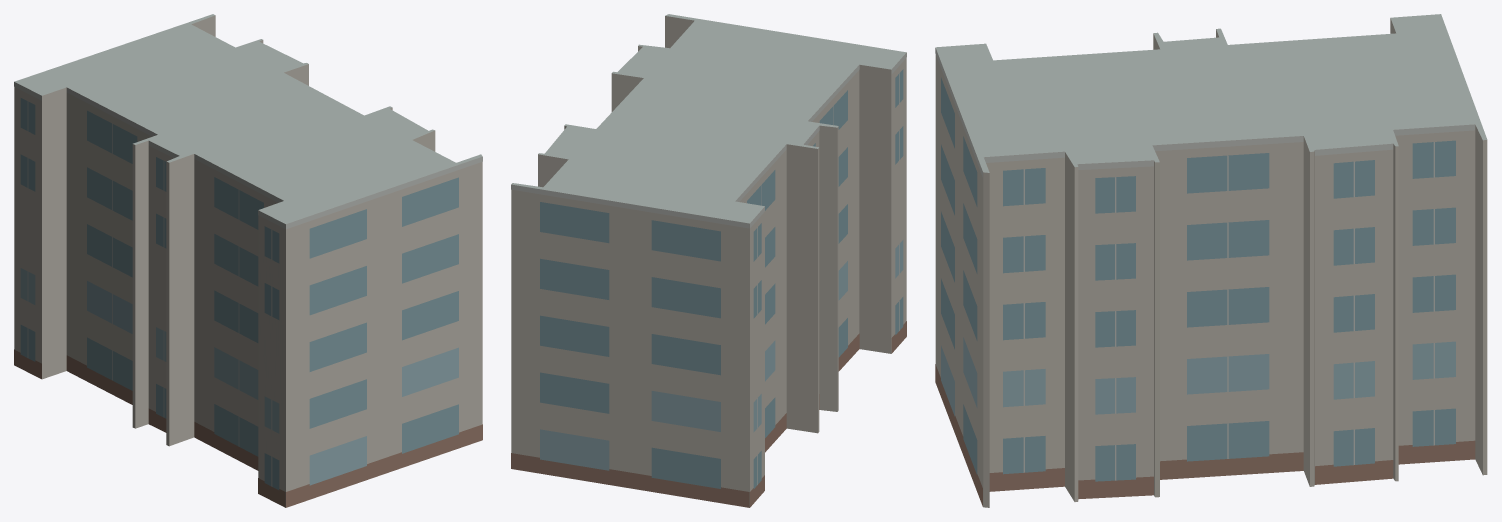
Rendered from survey-upis-32720362.glb.
3 renders of one model, left to right at view 1: azimuth 30°, elevation 25°; view 2: azimuth 150°, elevation 25°; view 3: azimuth 270°, elevation 25°, orthographic. The views are drawn at different scales.
Parts seen in each view (by area): view 1: survey-upis-32720362.tmp; view 2: survey-upis-32720362.tmp; view 3: survey-upis-32720362.tmp.
Boxes of the visible parts, box(x1,y1,x2,y2) form: survey-upis-32720362.tmp: box(14, 14, 482, 507); survey-upis-32720362.tmp: box(511, 14, 906, 507); survey-upis-32720362.tmp: box(935, 14, 1487, 507).
Bounding box in the file's own units: 13.85 × 13.6 × 20.32.
